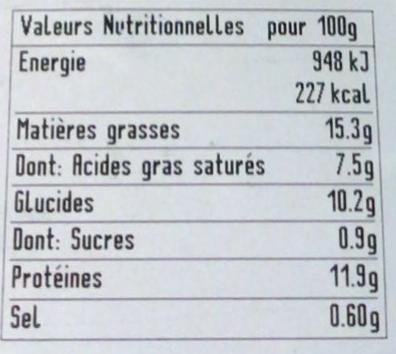column: (10, 15, 265, 331), (269, 14, 381, 332)
line: (20, 48, 368, 104), (11, 260, 377, 293), (10, 301, 379, 332), (13, 117, 374, 145), (12, 189, 377, 216), (20, 14, 364, 41), (13, 226, 377, 251), (13, 152, 375, 177)
table: (2, 9, 390, 339)
